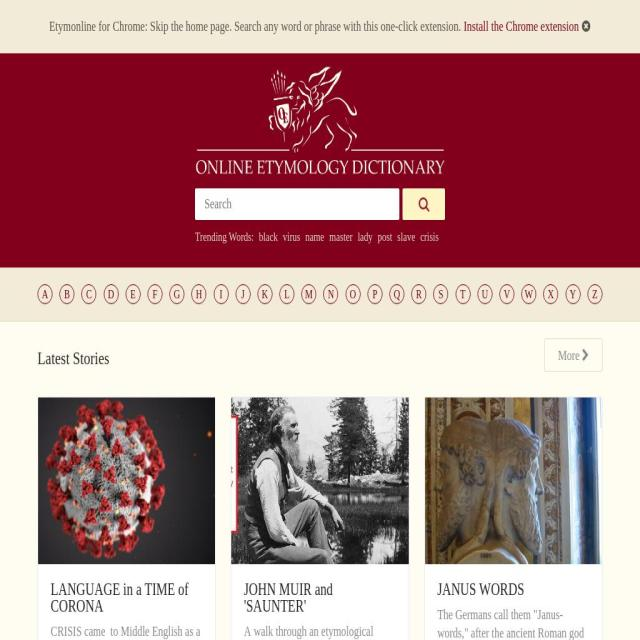button: (230, 346, 410, 640), (423, 346, 602, 640), (38, 346, 216, 640), (544, 288, 602, 322), (147, 234, 162, 253), (257, 234, 272, 253), (367, 234, 382, 253), (477, 234, 492, 253), (499, 234, 514, 253), (587, 234, 602, 253), (38, 234, 52, 253), (60, 234, 74, 253), (82, 234, 96, 253), (104, 234, 118, 253), (126, 234, 140, 253), (170, 234, 184, 253), (192, 234, 206, 253), (214, 234, 228, 253), (236, 234, 250, 253), (280, 234, 294, 253), (302, 234, 316, 253), (324, 234, 338, 253), (346, 234, 360, 253), (390, 234, 404, 253), (412, 234, 426, 253), (434, 234, 448, 253), (456, 234, 470, 253), (522, 234, 536, 253), (544, 234, 558, 253), (566, 234, 580, 253)
field: (195, 138, 399, 170), (403, 138, 445, 170)
heading: (51, 530, 203, 564), (244, 530, 396, 564), (437, 530, 589, 548), (37, 295, 110, 322)
image: (38, 347, 216, 514), (231, 347, 409, 514), (424, 347, 602, 514), (195, 16, 445, 125)
link: (463, 0, 579, 640), (437, 555, 589, 629), (50, 571, 203, 640), (243, 571, 396, 640), (222, 218, 260, 232), (328, 180, 352, 193), (259, 180, 279, 193), (200, 218, 218, 232), (305, 180, 324, 193), (420, 180, 439, 193), (282, 180, 300, 193), (397, 180, 415, 193), (358, 180, 373, 193), (378, 180, 393, 193)
text: (49, 0, 461, 640), (195, 177, 254, 196), (557, 298, 582, 312)
